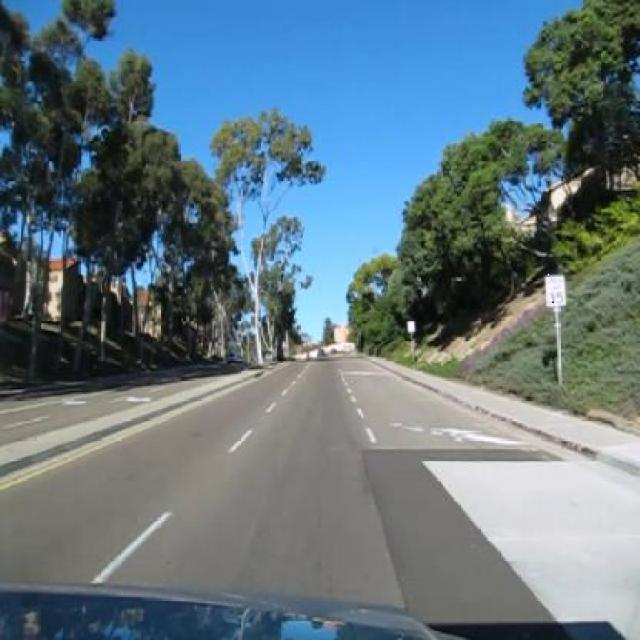speedLimit35: (545, 274, 567, 308)
